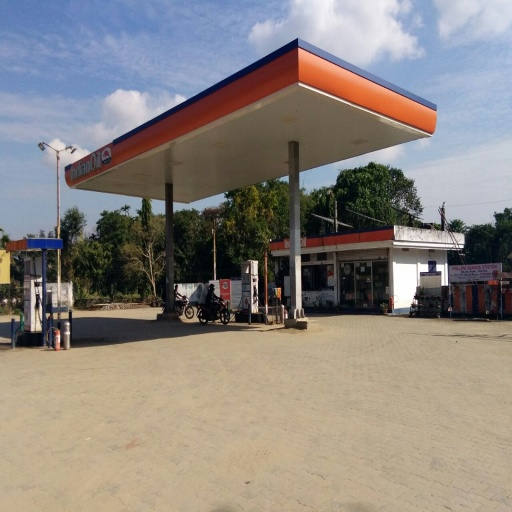roof: (62, 40, 443, 205)
